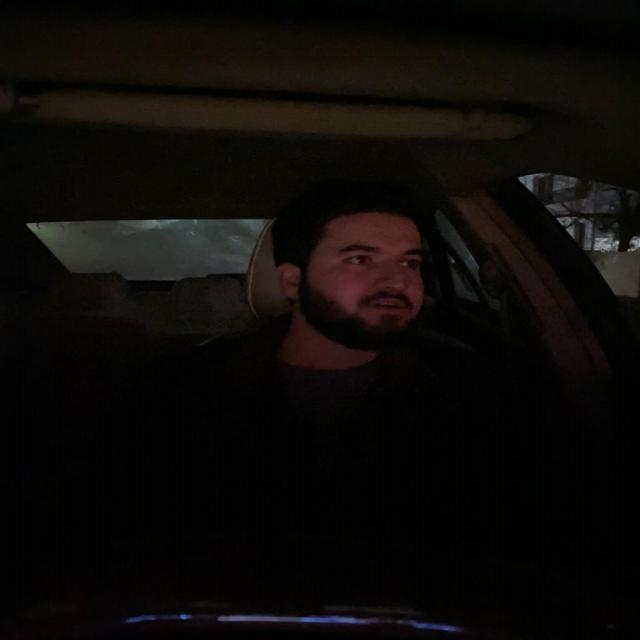person: (275, 195, 434, 372)
